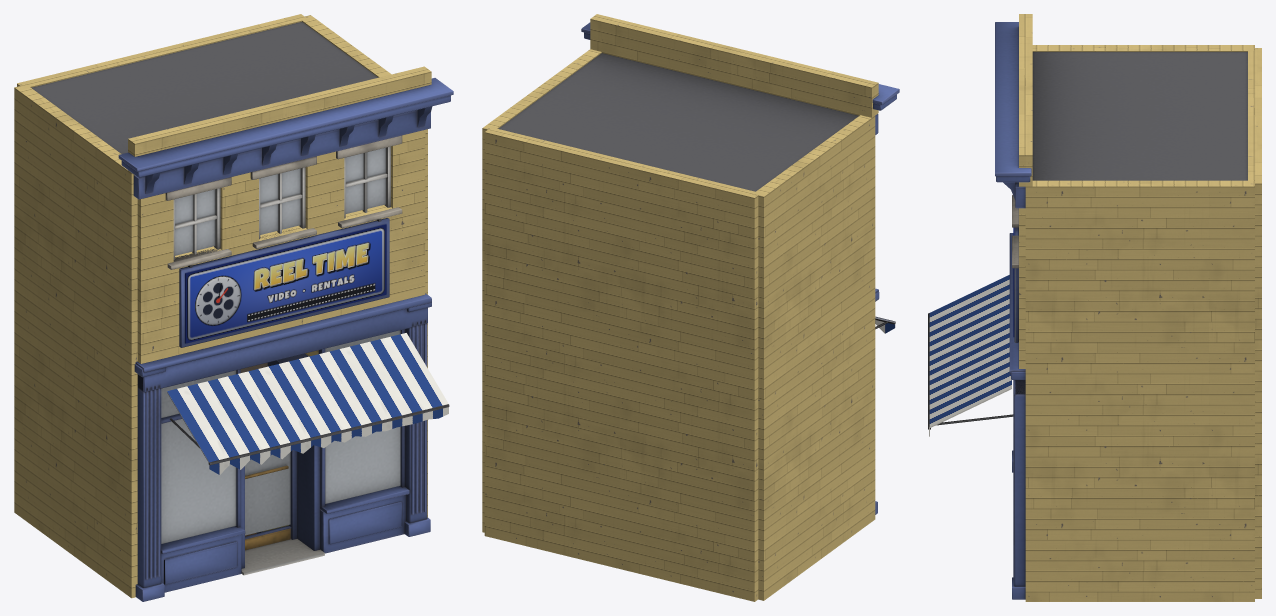
Rendered from WFShopVideo.fbx.
The picture shows the model from 3 angles, left to right: view 1: azimuth 30°, elevation 25°; view 2: azimuth 150°, elevation 25°; view 3: azimuth 270°, elevation 25°; orthographic projection. The views are drawn at different scales.
Parts seen in each view (by area): view 1: WFShopVideo_Walls, WFShopVideo_Main, WFShopVideo_Awning, WFShopVideo_Glass, WFShopVideo_Sign; view 2: WFShopVideo_Walls, WFShopVideo_Main; view 3: WFShopVideo_Walls, WFShopVideo_Main, WFShopVideo_Awning.
Boxes of the visible parts, x1,y1,x2,y2 form: WFShopVideo_Walls: [14, 14, 431, 598]; WFShopVideo_Main: [31, 22, 453, 601]; WFShopVideo_Awning: [167, 333, 448, 474]; WFShopVideo_Glass: [161, 147, 400, 543]; WFShopVideo_Sign: [185, 224, 386, 343]; WFShopVideo_Walls: [482, 14, 878, 601]; WFShopVideo_Main: [498, 22, 899, 514]; WFShopVideo_Walls: [1019, 14, 1261, 601]; WFShopVideo_Main: [928, 22, 1247, 599]; WFShopVideo_Awning: [929, 275, 1011, 436].
Size of the model in its own units: 1560 by 2150 by 1456.
